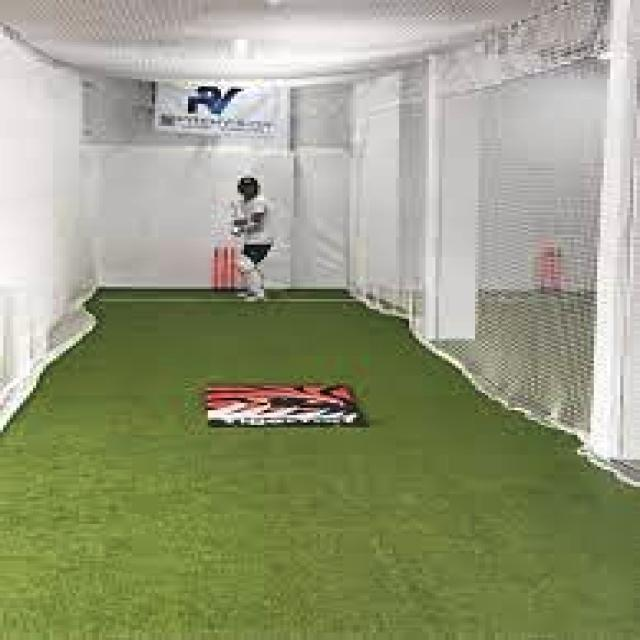bat: (214, 198, 240, 246)
